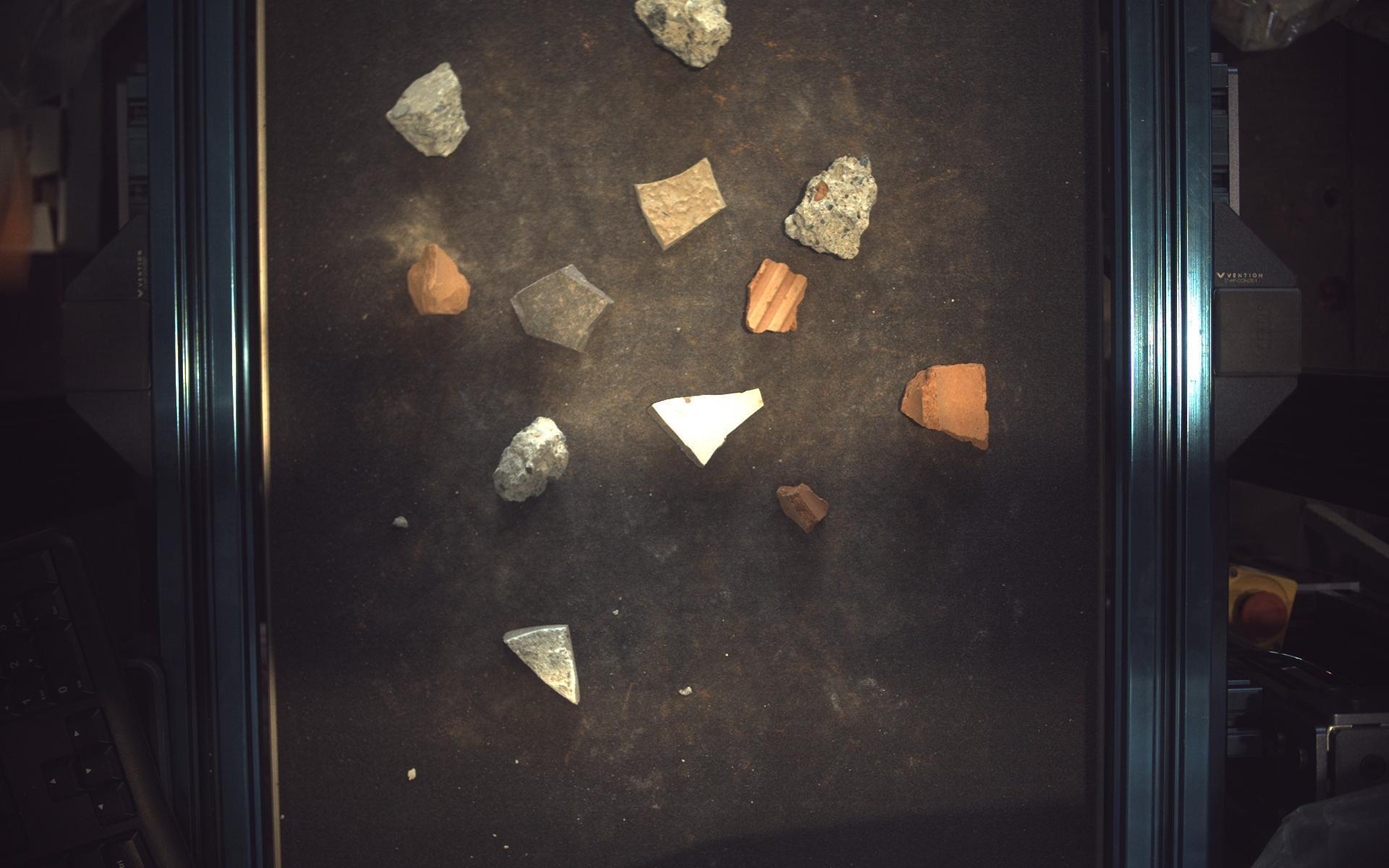brick: (903, 363, 991, 451), (746, 258, 809, 333), (407, 243, 470, 315), (778, 485, 830, 532)
concrete: (786, 153, 879, 258), (386, 61, 470, 156), (493, 417, 569, 502), (636, 1, 733, 67)
tile: (649, 388, 764, 467), (511, 264, 613, 352), (635, 158, 727, 250), (504, 626, 579, 705)
